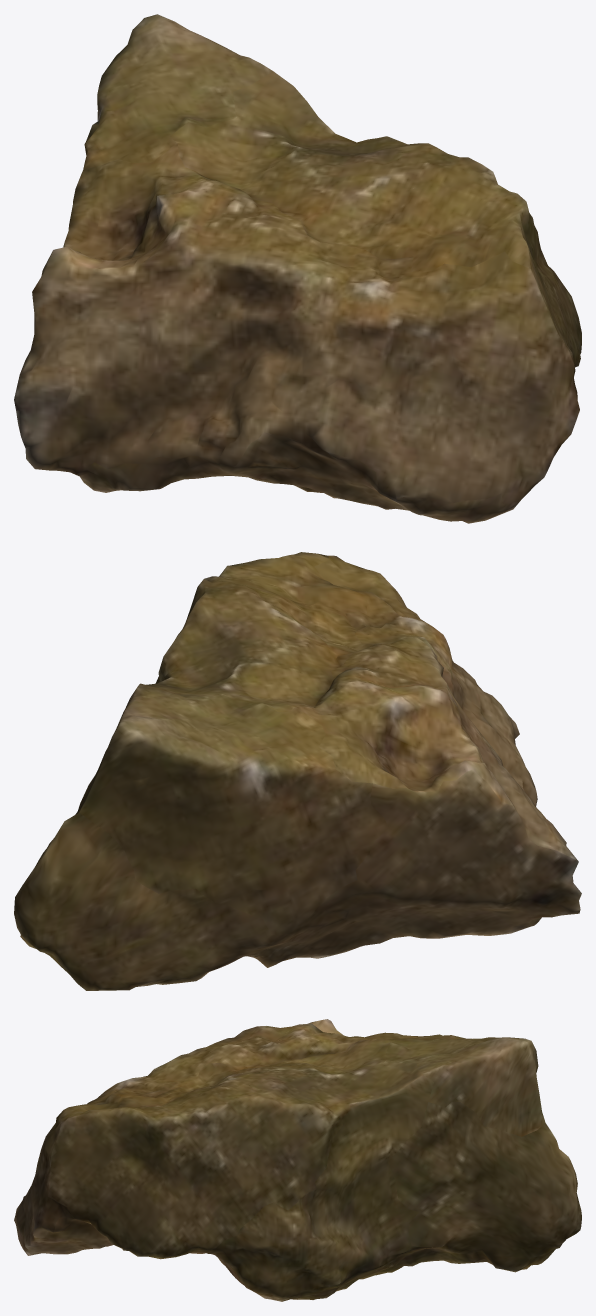
File: detail_scan_rock_06.glb
The picture shows the model from 3 angles, top to bottom: view 1: azimuth 30°, elevation 25°; view 2: azimuth 150°, elevation 25°; view 3: azimuth 270°, elevation 25°; orthographic projection. The views are drawn at different scales.
Parts seen in each view (by area): view 1: rock_moss_set_01_rock06; view 2: rock_moss_set_01_rock06; view 3: rock_moss_set_01_rock06.
Boxes of the visible parts, box(x1,y1,x2,y2) form: rock_moss_set_01_rock06: box(14, 14, 581, 523); rock_moss_set_01_rock06: box(14, 552, 581, 990); rock_moss_set_01_rock06: box(14, 1019, 581, 1301).
Size of the model in its own units: 2.13 by 1.26 by 2.76.
Materials: 1 (1 with a texture image).
